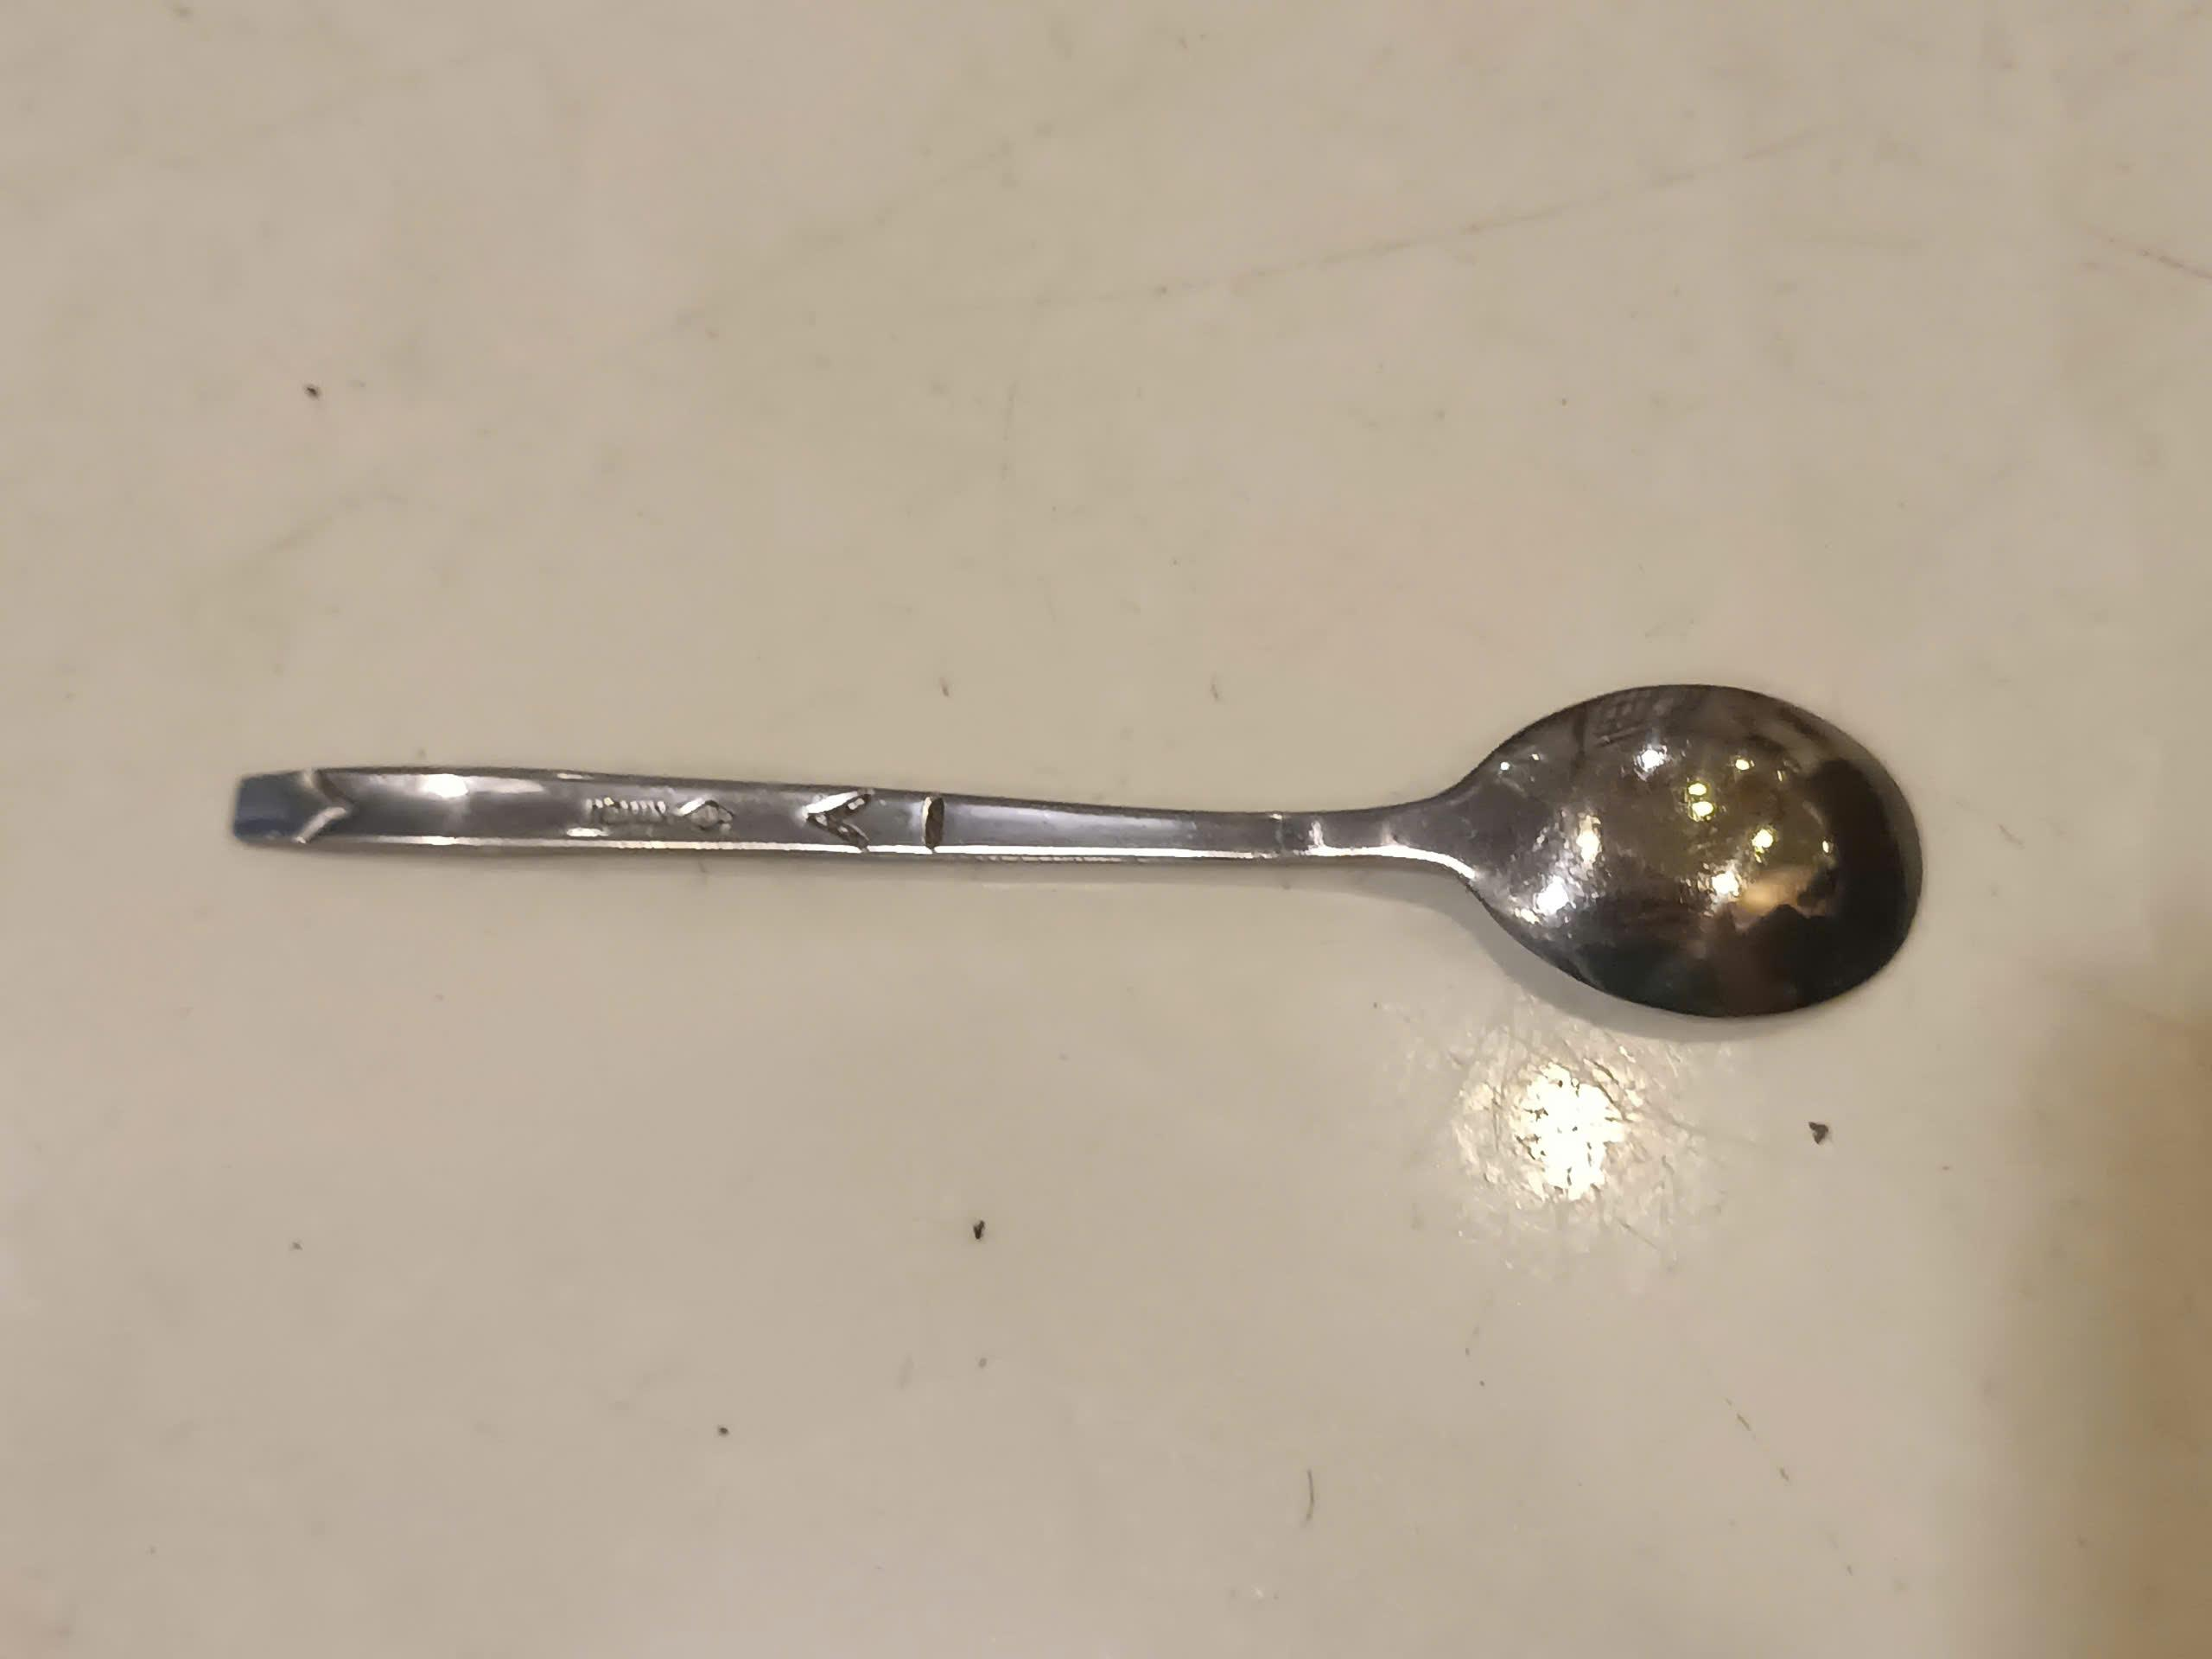Vo co: (233, 687, 1935, 1011)
